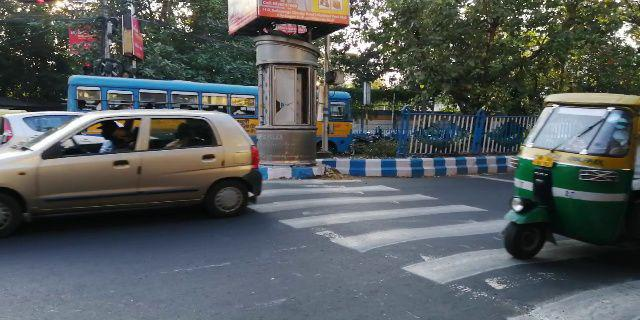Autorickshaw: (484, 91, 640, 280)
Car: (1, 107, 266, 227)
